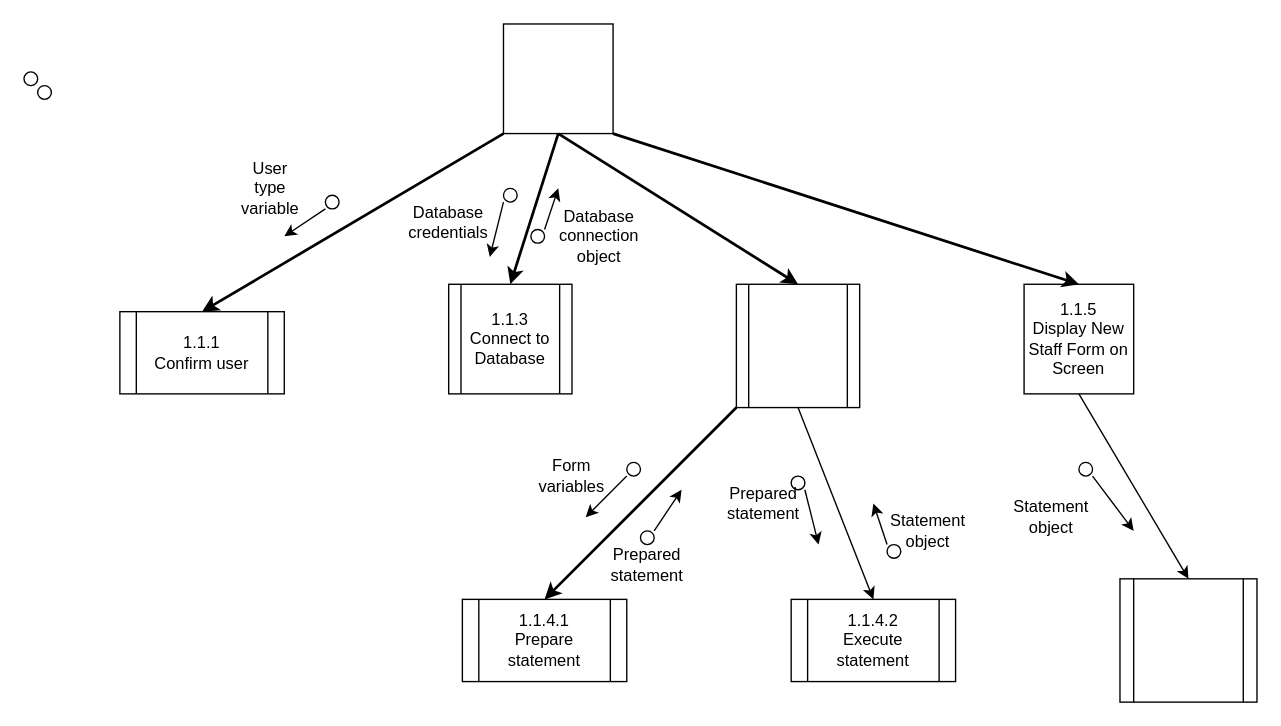
This 1281x726 diagram has some shape labels left out. Each missing label, with the centre of its shape:
1.1 Display New Staff Form: (x=557, y=78)
1.1.4 Query database: (x=797, y=345)
1.1.4.1 Display query details: (x=1188, y=639)
